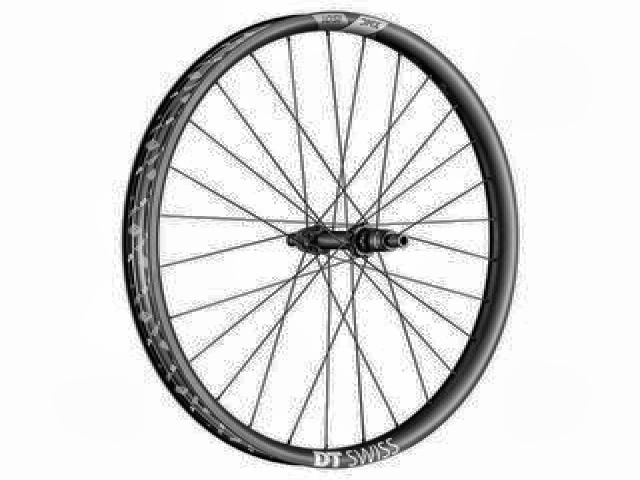wheel: (121, 7, 530, 471)
